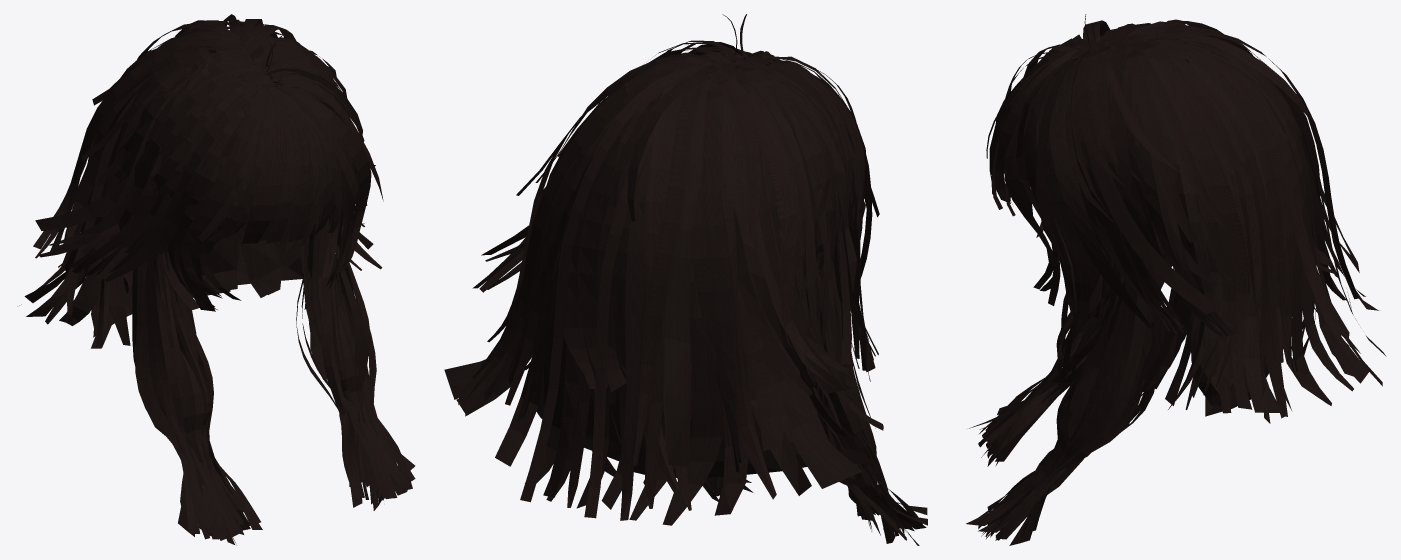
Rendered from mesh0.dat.obj.
3 views of the same model, side by side, from view 1: azimuth 30°, elevation 25°; view 2: azimuth 150°, elevation 25°; view 3: azimuth 270°, elevation 25° (orthographic). The views are drawn at different scales.
Visible parts, largest first — view 1: Object003; view 2: Object003; view 3: Object003.
Part boxes in pixels (x1=…): Object003: x1=17, y1=14, x2=415, y2=544; Object003: x1=444, y1=14, x2=927, y2=545; Object003: x1=966, y1=14, x2=1386, y2=545.
Bounding box in the file's own units: 2.03 × 2.52 × 1.95.
Materials: 1 (1 with a texture image).
